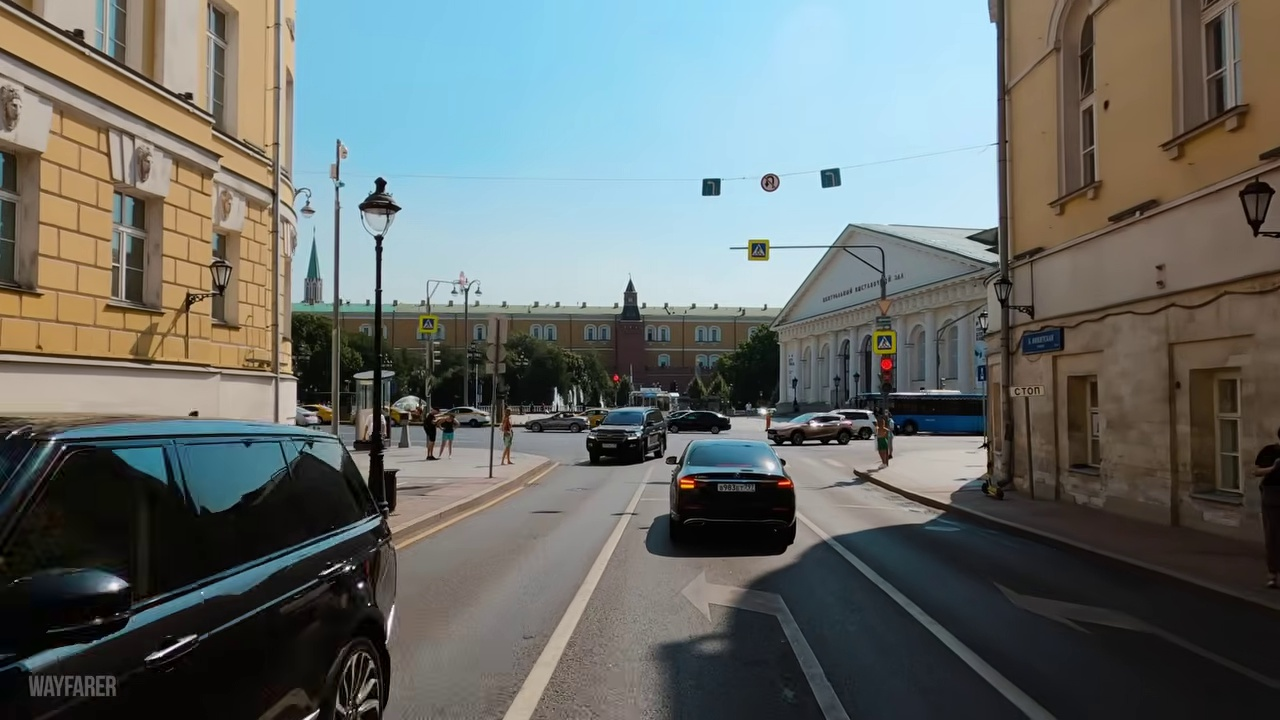apagada: (355, 191, 402, 228)
